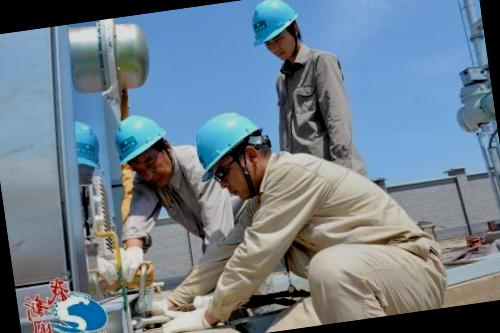helmet: (187, 108, 270, 184), (106, 111, 174, 171), (244, 0, 302, 53)
person: (188, 85, 454, 333), (244, 0, 363, 171), (107, 105, 213, 295)
